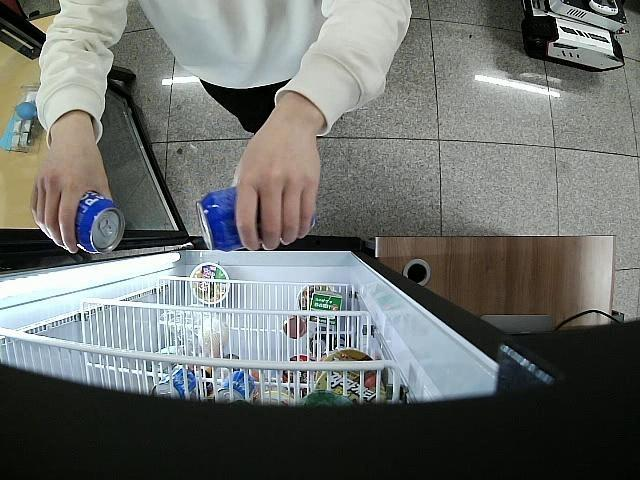13_pocariSweat: (197, 184, 312, 251), (74, 190, 127, 255)
